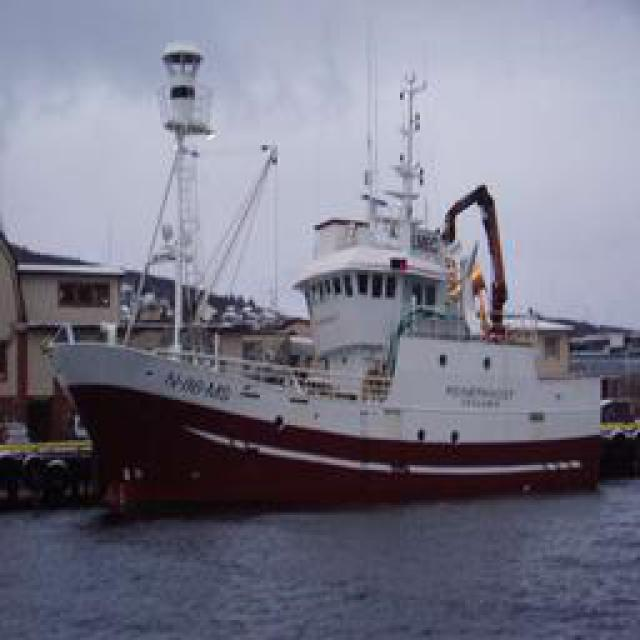Ship: (44, 41, 619, 501)
